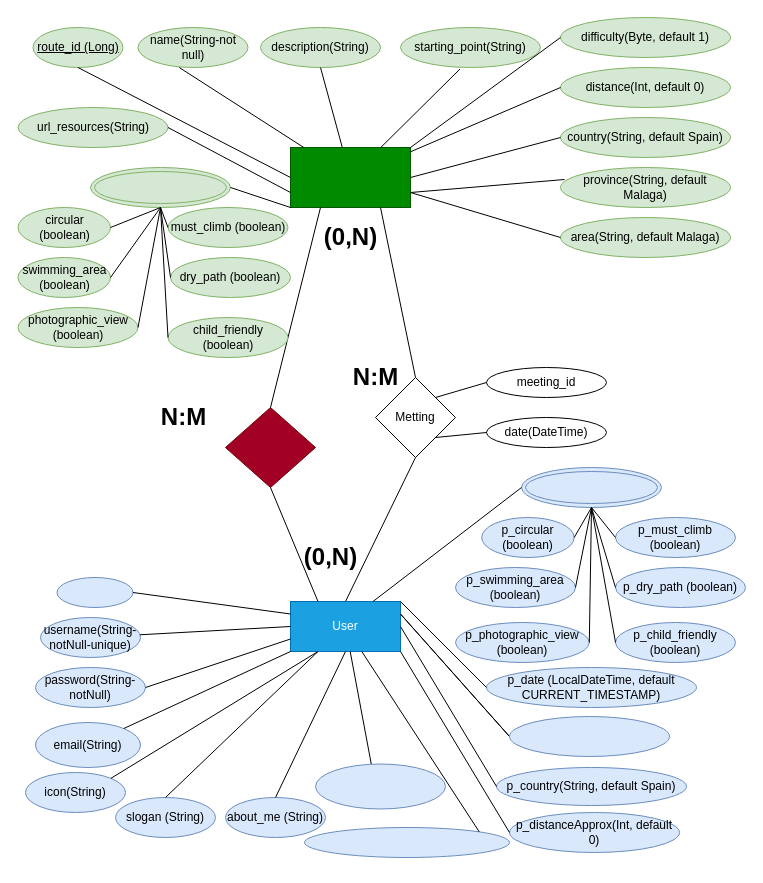
Image size: 763x883. Some labels were removed from this diagram. The centre of each missing label's shape, as x and y in pixels:
"characteristics" goes at pixel 160 187.
"p_area(String, default Malaga)" goes at pixel 380 786.
"p_characteristics" goes at pixel 591 487.
"p_difficulty(Byte, default 1)" goes at pixel 589 736.
"p_province (String,default Malaga)" goes at pixel 407 842.
"Route" goes at pixel 350 177.
"Saved_routes" goes at pixel 270 447.
"user_id" goes at pixel 94 592.
